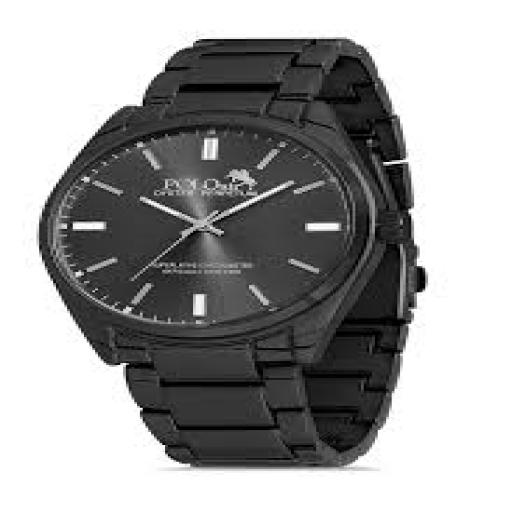KolSaati: (39, 13, 485, 474)
